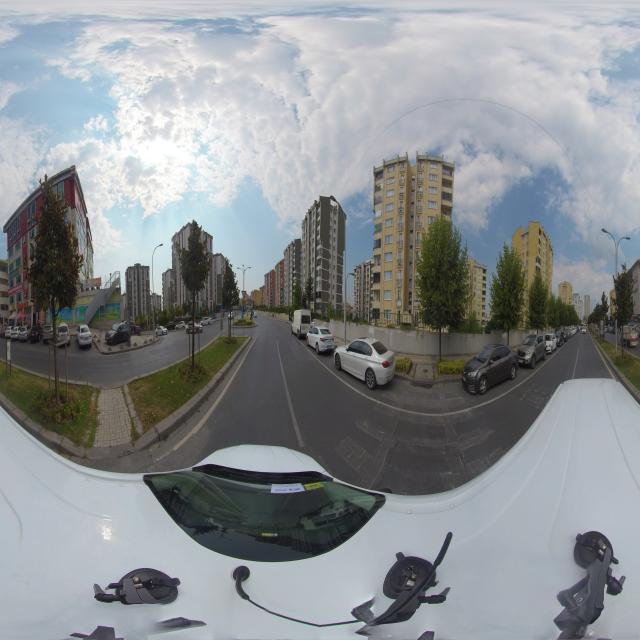SignStore: (8, 282, 23, 297), (8, 265, 22, 281), (9, 248, 21, 265), (16, 299, 29, 309)
